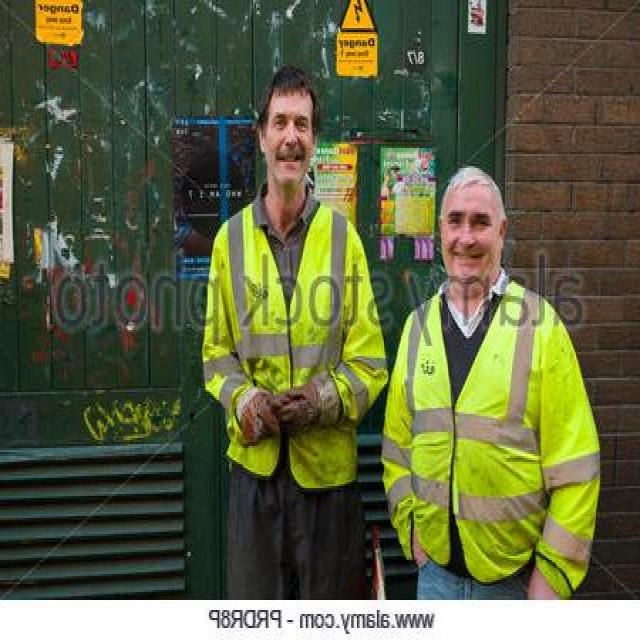Reflective-Jacket: (380, 280, 600, 590), (199, 200, 384, 492)
